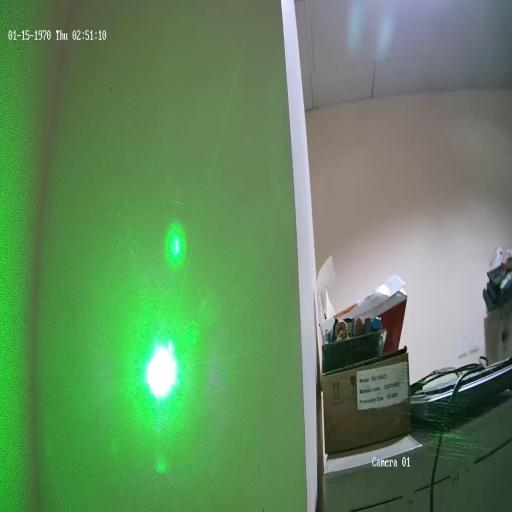laser: (133, 320, 187, 412)
